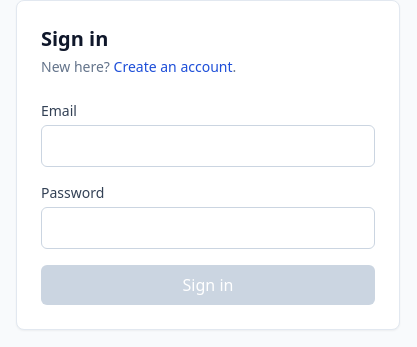
Test case: LoginPage › disables submit until both fields are valid
The image size is (417, 347).
Expected: the button "Sign in" is disabled, [41,265,375,305]
Type "me@example.com" into the field labelled "Email".
click(208, 146); type("me@example.com")  # box [41,125,375,167]
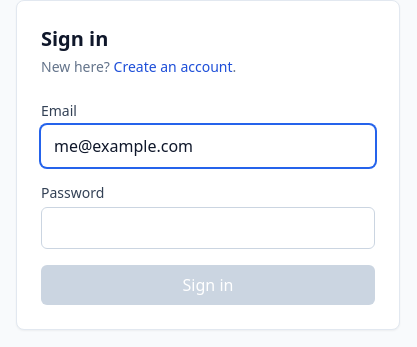
Expected: the button "Sign in" is disabled, [41,265,375,305]
Type "shortpw" into the password field labelled "Password".
click(208, 228); type("shortpw")  # box [41,207,375,249]
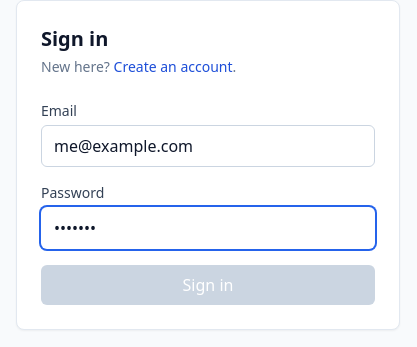
Expected: the button "Sign in" is disabled, [41,265,375,305]
Type "8" into the password field labelled "Password".
click(208, 228); type("8")  # box [41,207,375,249]
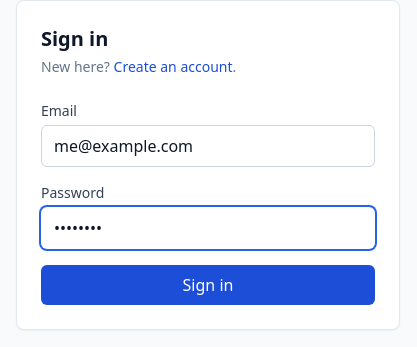
Expected: the button "Sign in" is enabled, [41,265,375,305]
